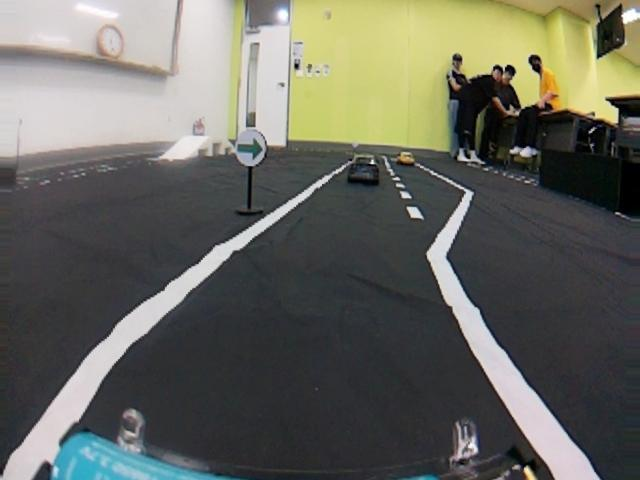car: (1, 239, 640, 479), (230, 126, 271, 169), (345, 149, 387, 188), (396, 148, 416, 167)
